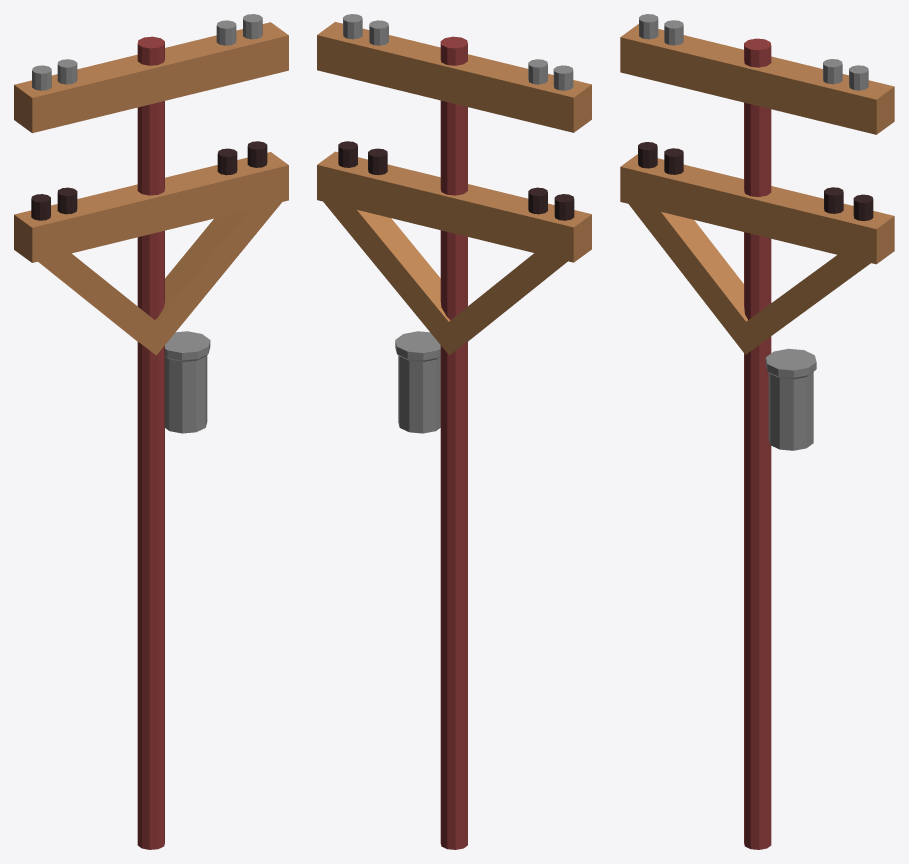
The model's file is electricpose.fbx.
3 renders of one model, left to right at view 1: azimuth 30°, elevation 25°; view 2: azimuth 150°, elevation 25°; view 3: azimuth 330°, elevation 25°, orthographic.
Visible parts, largest first — view 1: Cylinder.009; view 2: Cylinder.009; view 3: Cylinder.009.
Boxes of the visible parts, x1=… form: Cylinder.009: x1=14, y1=14, x2=288, y2=849; Cylinder.009: x1=317, y1=14, x2=591, y2=849; Cylinder.009: x1=620, y1=14, x2=894, y2=849.
Bounding box in the file's own units: 765 × 2283 × 134.
